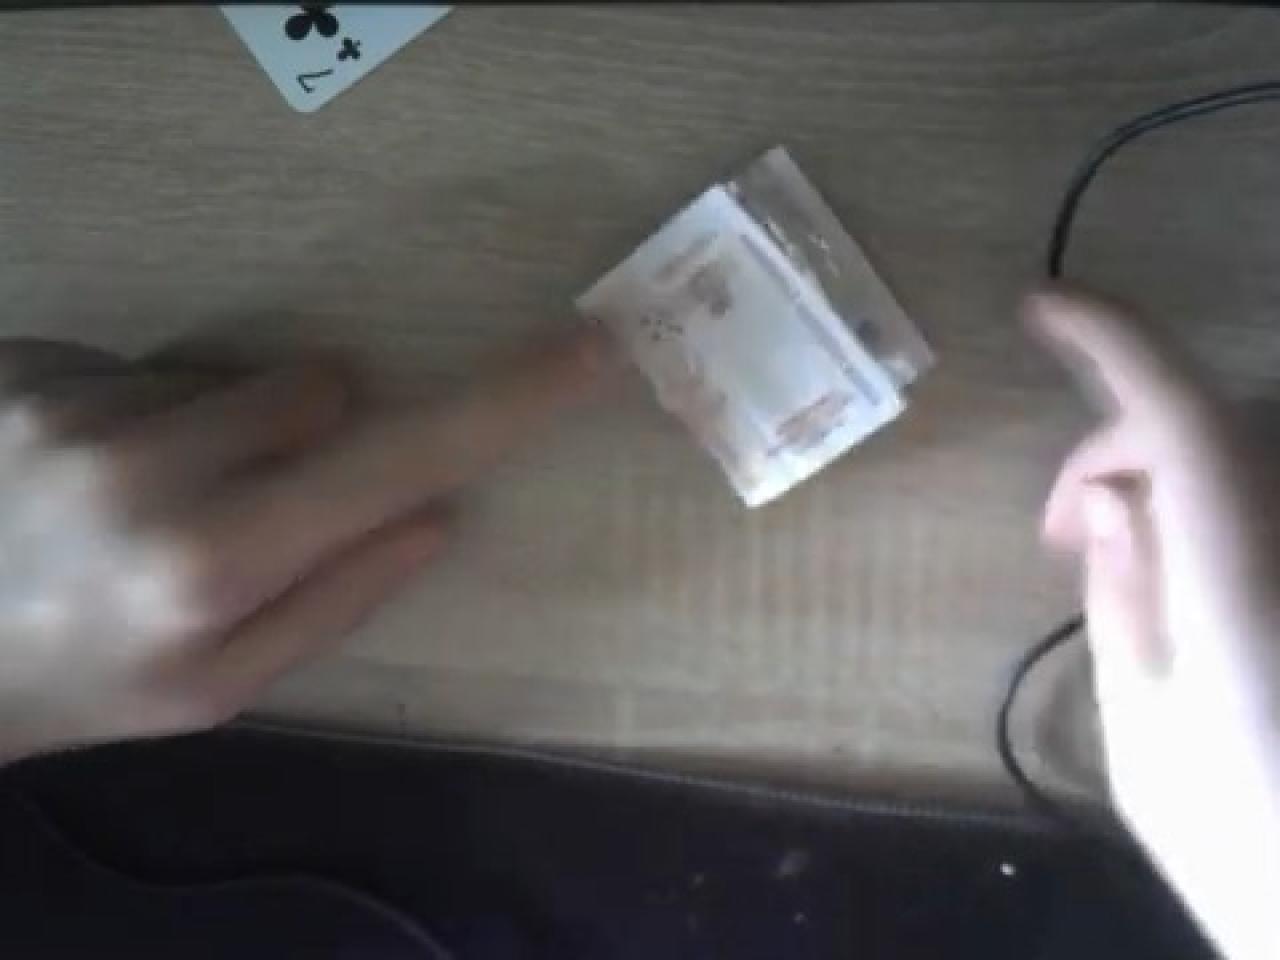5leva: (573, 141, 941, 506)
